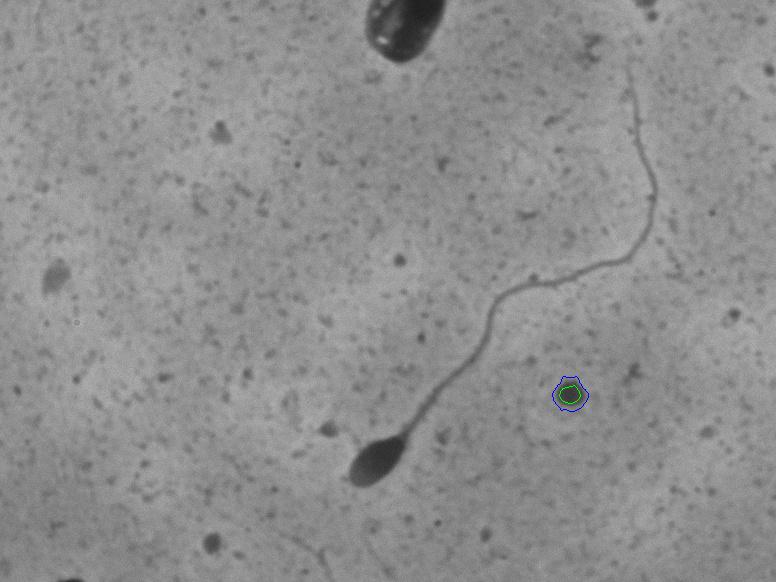Normal: (323, 44, 674, 502)
